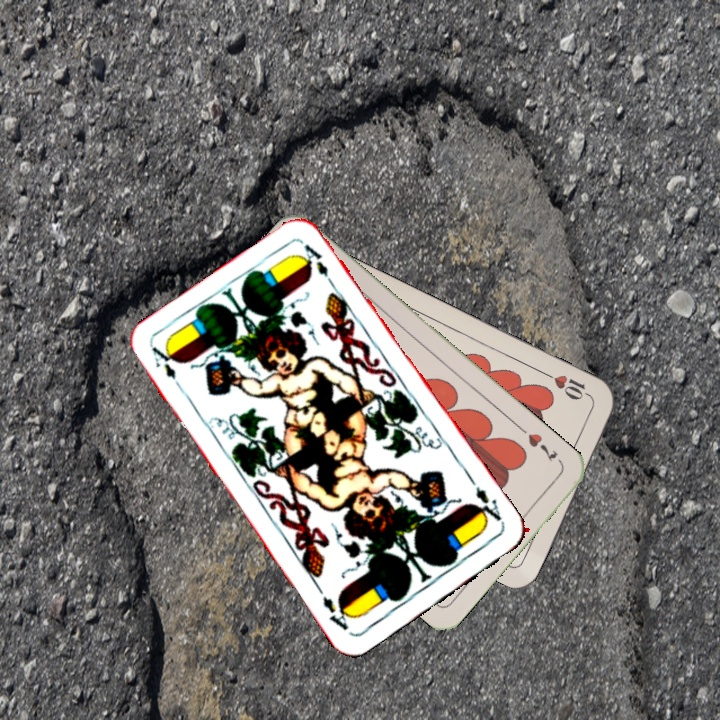EA: (147, 342, 187, 395), (470, 482, 507, 527)
H10: (541, 368, 596, 403)
H7: (524, 429, 560, 465)
